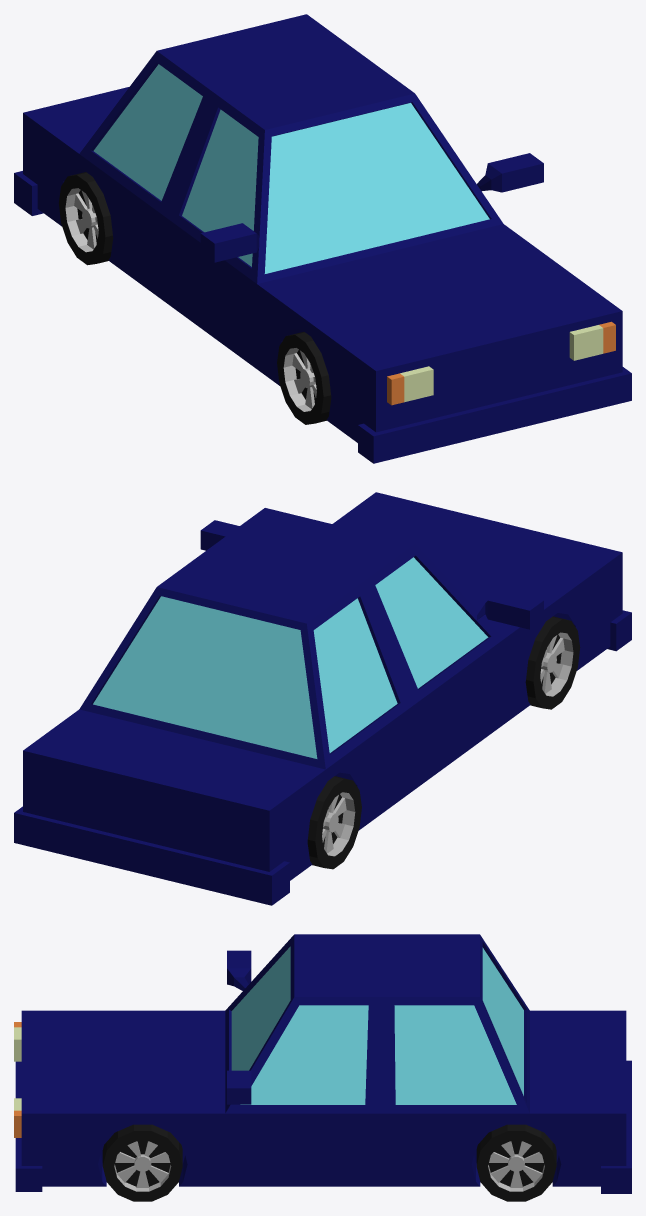
Rendered from blue car.fbx.
3 renders of one model, top to bottom at view 1: azimuth 30°, elevation 25°; view 2: azimuth 150°, elevation 25°; view 3: azimuth 270°, elevation 25°, orthographic. The views are drawn at different scales.
Visible parts, largest first — view 1: Cube, Cylinder.001, Cylinder.003, Cube.002, Cube.001; view 2: Cube, Cylinder.001, Cylinder.003, Cube.002; view 3: Cube, Cylinder.003, Cylinder.001, Cube.002, Cube.001.
Boxes of the visible parts, x1,y1,x2,y2 form: Cube: (14,14,631,463); Cylinder.001: (277,332,331,424); Cylinder.003: (58,172,113,265); Cube.002: (200,153,543,262); Cube.001: (387,321,615,405); Cube: (14,492,631,905); Cylinder.001: (525,616,580,709); Cylinder.003: (307,776,361,869); Cube.002: (200,520,543,629); Cube: (15,934,631,1193); Cylinder.003: (476,1124,556,1201); Cylinder.001: (102,1124,182,1201); Cube.002: (227,950,251,1104); Cube.001: (14,1022,21,1137).
Bounding box in the file's own units: 341 × 211 × 647.
